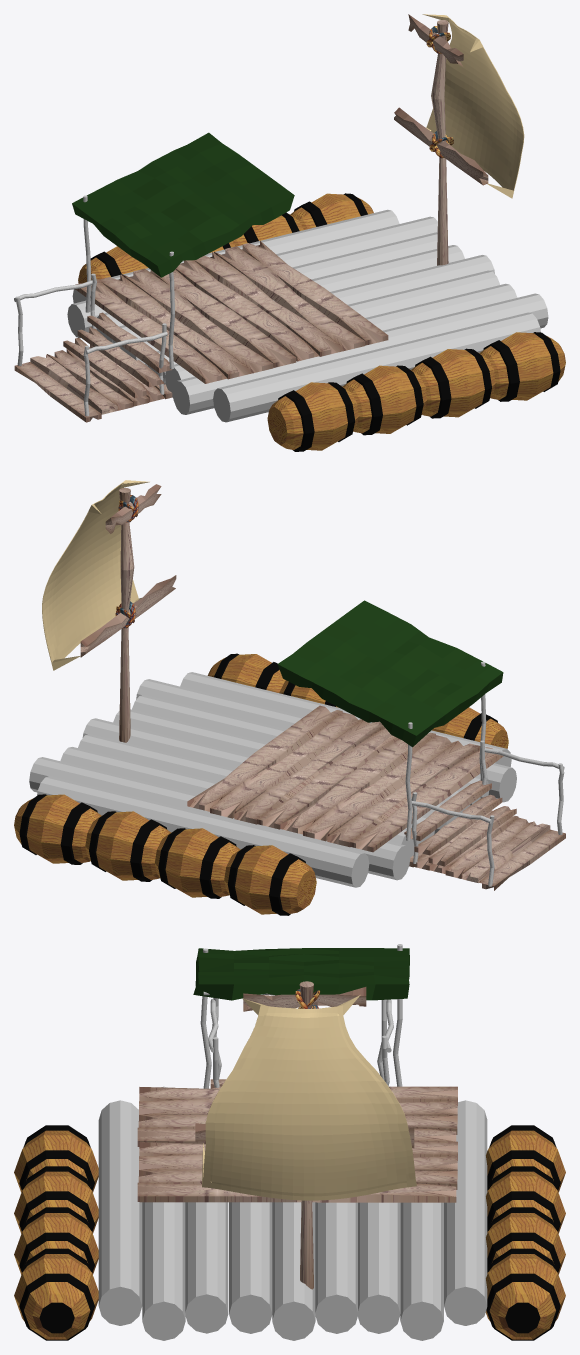
The model's file is JangadaFamilia.fbx.
The picture shows the model from 3 angles, top to bottom: view 1: azimuth 30°, elevation 25°; view 2: azimuth 150°, elevation 25°; view 3: azimuth 270°, elevation 25°; orthographic projection. The views are drawn at different scales.
Visible parts, largest first — view 1: Circle.001, Plane.003, Barris Boias.001, Plane.018, Plane, Mastro, Tabua do Mastro 1, Plane.011, Plane.017, Plane.012, Plane.014, Plane.013 (+3 smaller); view 2: Circle.001, Plane.003, Barris Boias.001, Plane.018, Plane, Mastro, Tabua do Mastro 1, Plane.011, Plane.017, Plane.012, Plane.014, Plane.013 (+3 smaller); view 3: Circle.001, Plane, Barris Boias.001, Plane.003, Plane.018, Mastro, Tabua do Mastro 2, Circle.006, Circle.004.
Part boxes in pixels (x1,y1,x2,y2): Circle.001: [67, 209, 548, 422]; Plane.003: [75, 240, 388, 383]; Barris Boias.001: [78, 193, 565, 451]; Plane.018: [72, 132, 294, 277]; Plane: [422, 14, 524, 198]; Mastro: [431, 20, 448, 265]; Tabua do Mastro 1: [394, 107, 488, 185]; Plane.011: [14, 362, 101, 422]; Plane.017: [63, 337, 150, 398]; Plane.012: [30, 354, 117, 414]; Plane.014: [77, 327, 164, 387]; Plane.013: [87, 312, 171, 372]; Circle.001: [29, 672, 516, 887]; Plane.003: [187, 705, 503, 852]; Barris Boias.001: [14, 653, 508, 915]; Plane.018: [277, 600, 503, 747]; Plane: [42, 480, 149, 670]; Mastro: [119, 488, 134, 742]; Tabua do Mastro 1: [80, 575, 176, 657]; Plane.011: [478, 829, 565, 890]; Plane.017: [428, 806, 516, 866]; Plane.012: [462, 821, 550, 882]; Plane.014: [414, 794, 502, 855]; Plane.013: [404, 780, 491, 840]; Circle.001: [98, 1086, 487, 1340]; Plane: [202, 995, 416, 1200]; Barris Boias.001: [14, 1125, 565, 1340]; Plane.003: [137, 1086, 457, 1202]; Plane.018: [193, 948, 409, 1000]; Mastro: [299, 981, 313, 1289]; Tabua do Mastro 2: [243, 987, 366, 1011]; Circle.006: [200, 948, 211, 1088]; Circle.004: [393, 944, 402, 1086].
Bounding box in the file's own units: 1713 × 1091 × 1508.
